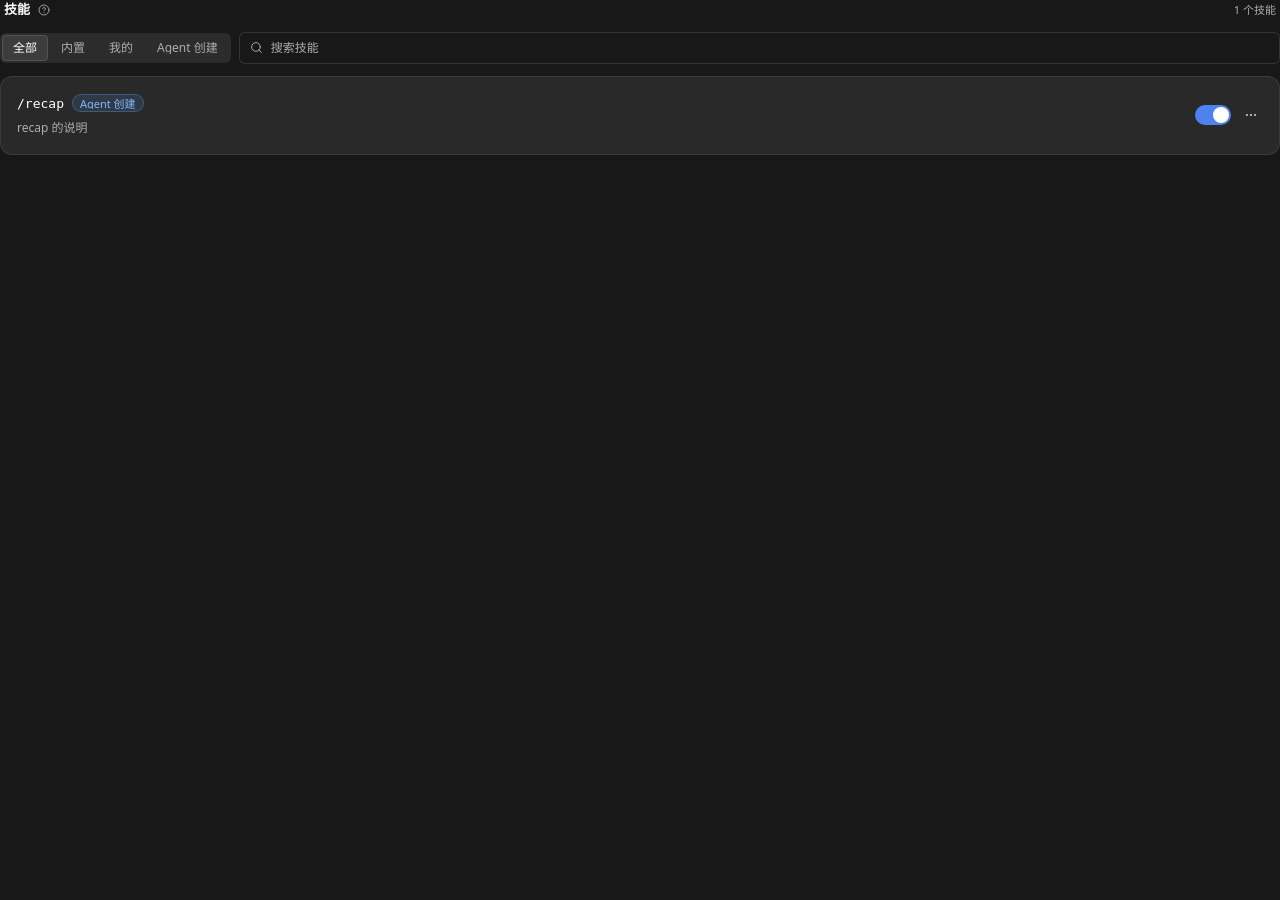
Scenario: SkillsPage › views a skill, schedules it as a task, and deletes after confirmation
Right-click the text "/recap".
right_click(40, 103)  # box [17, 96, 64, 110]
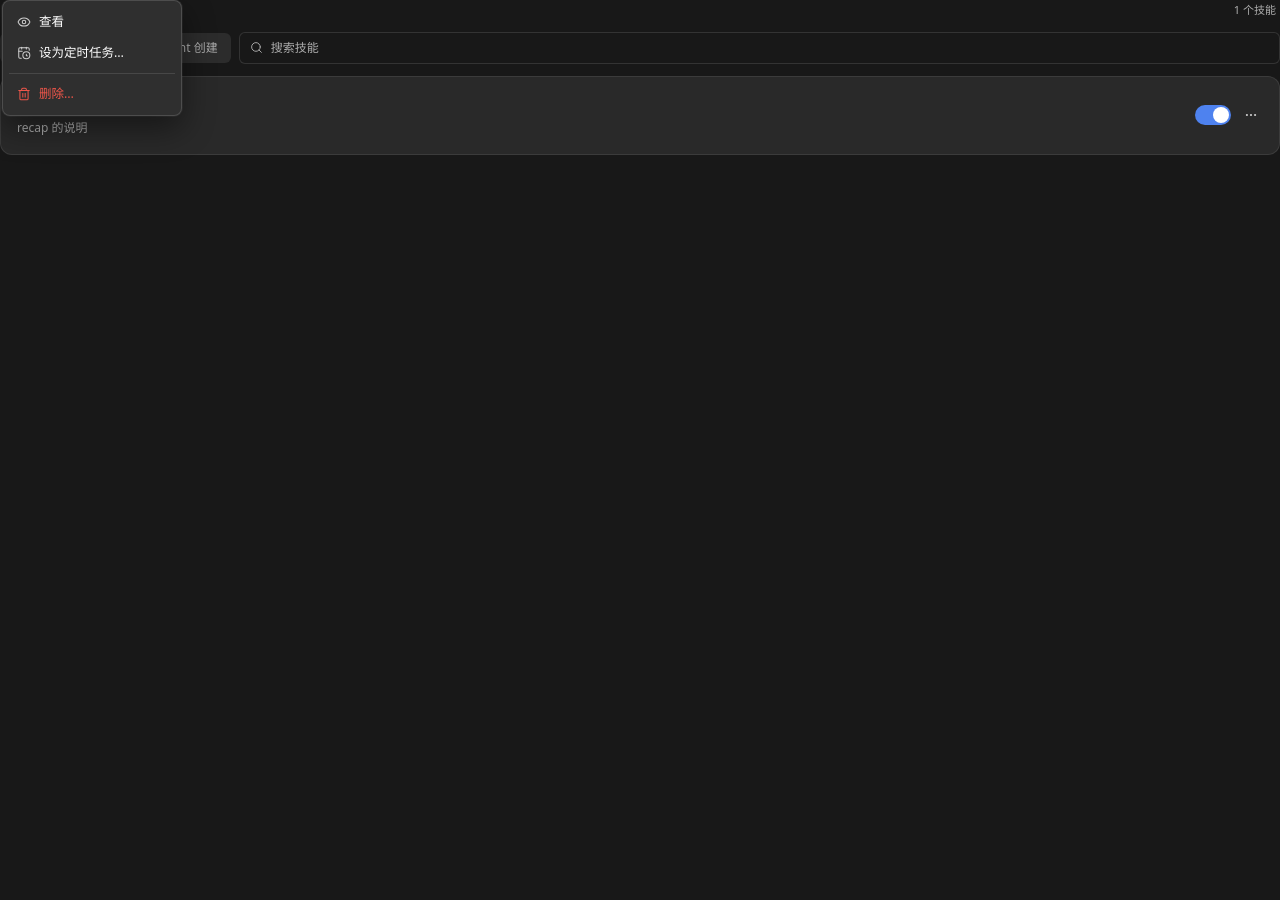
Click the menu item "查看".
click(40, 22)  # box [17, 13, 64, 30]
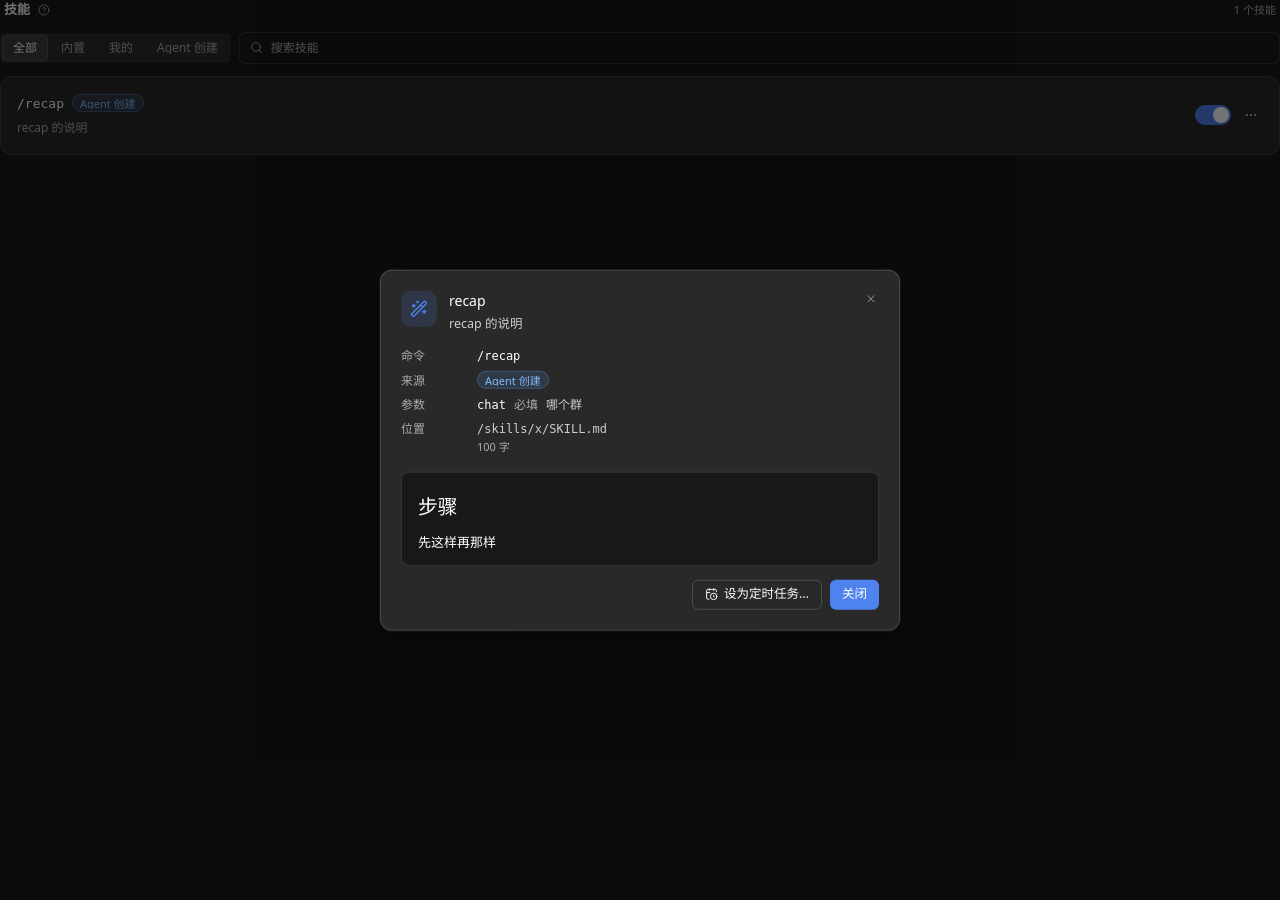
Expected: the text "先这样再那样" is shown, [418, 532, 496, 550]
Expected: the text "哪个群" is shown, [546, 395, 582, 413]
Click the button "设为定时任务…".
click(757, 594)  # box [692, 579, 822, 609]
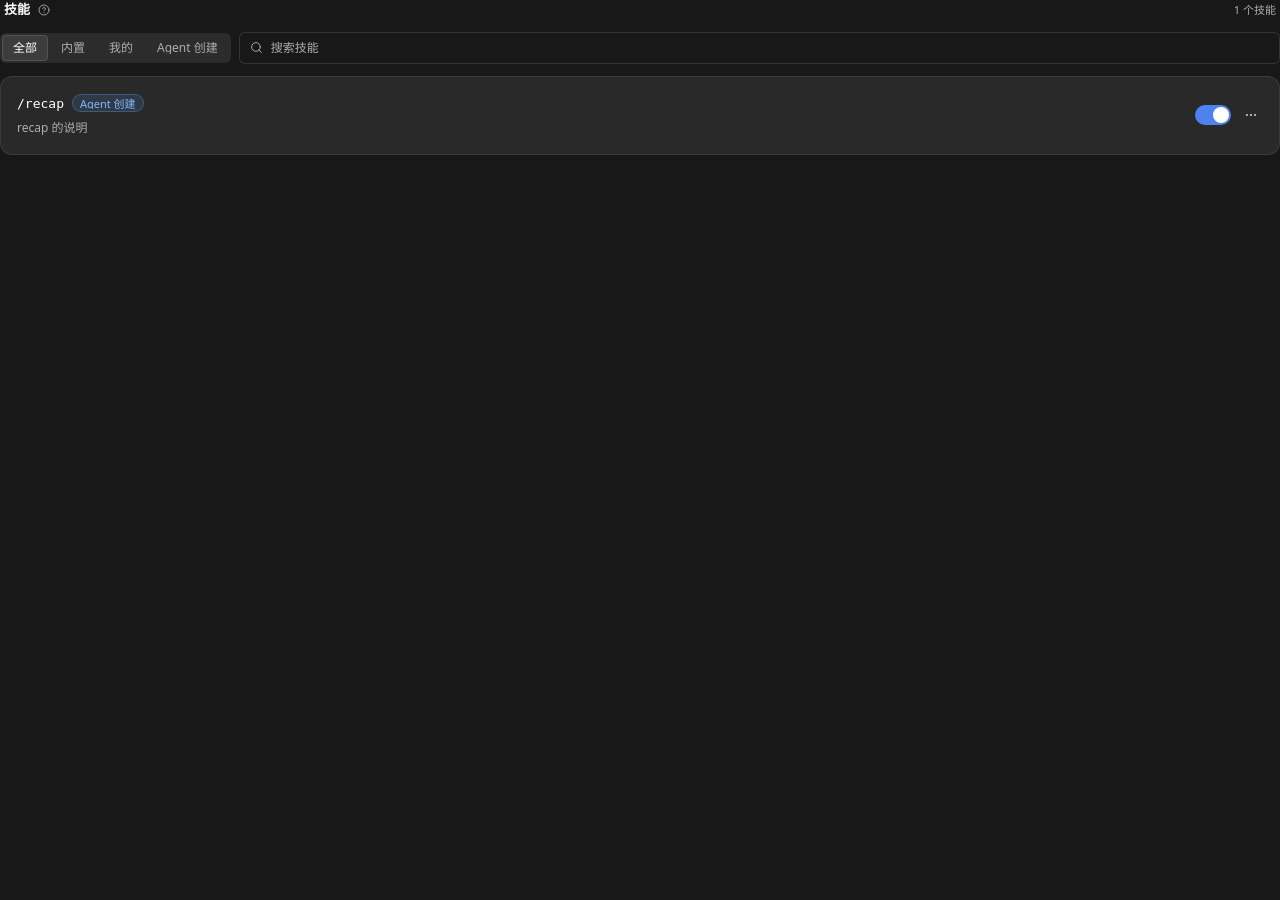
Right-click the text "/recap".
right_click(40, 103)  # box [17, 96, 64, 110]
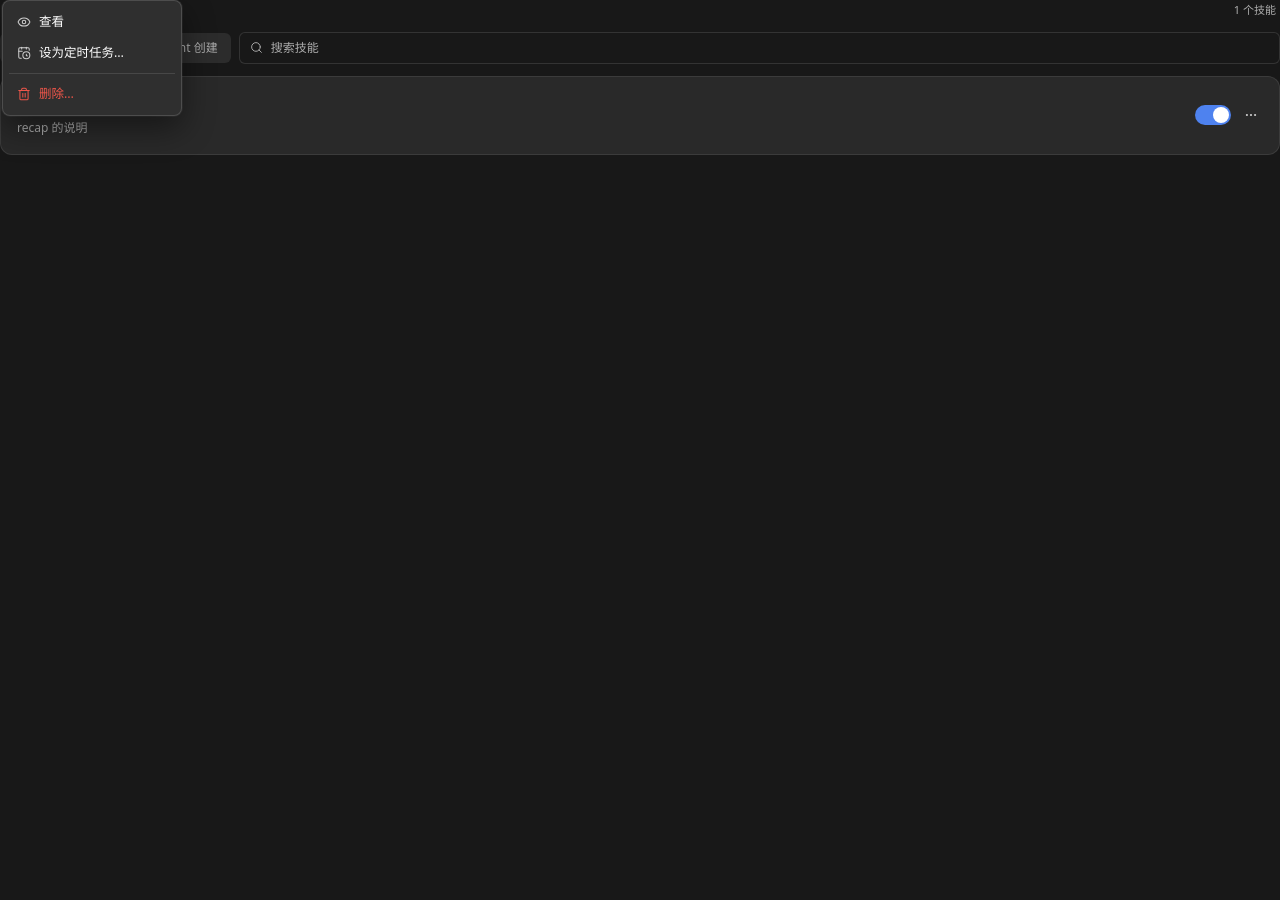
Click the menu item "删除…".
click(45, 94)  # box [17, 85, 74, 102]
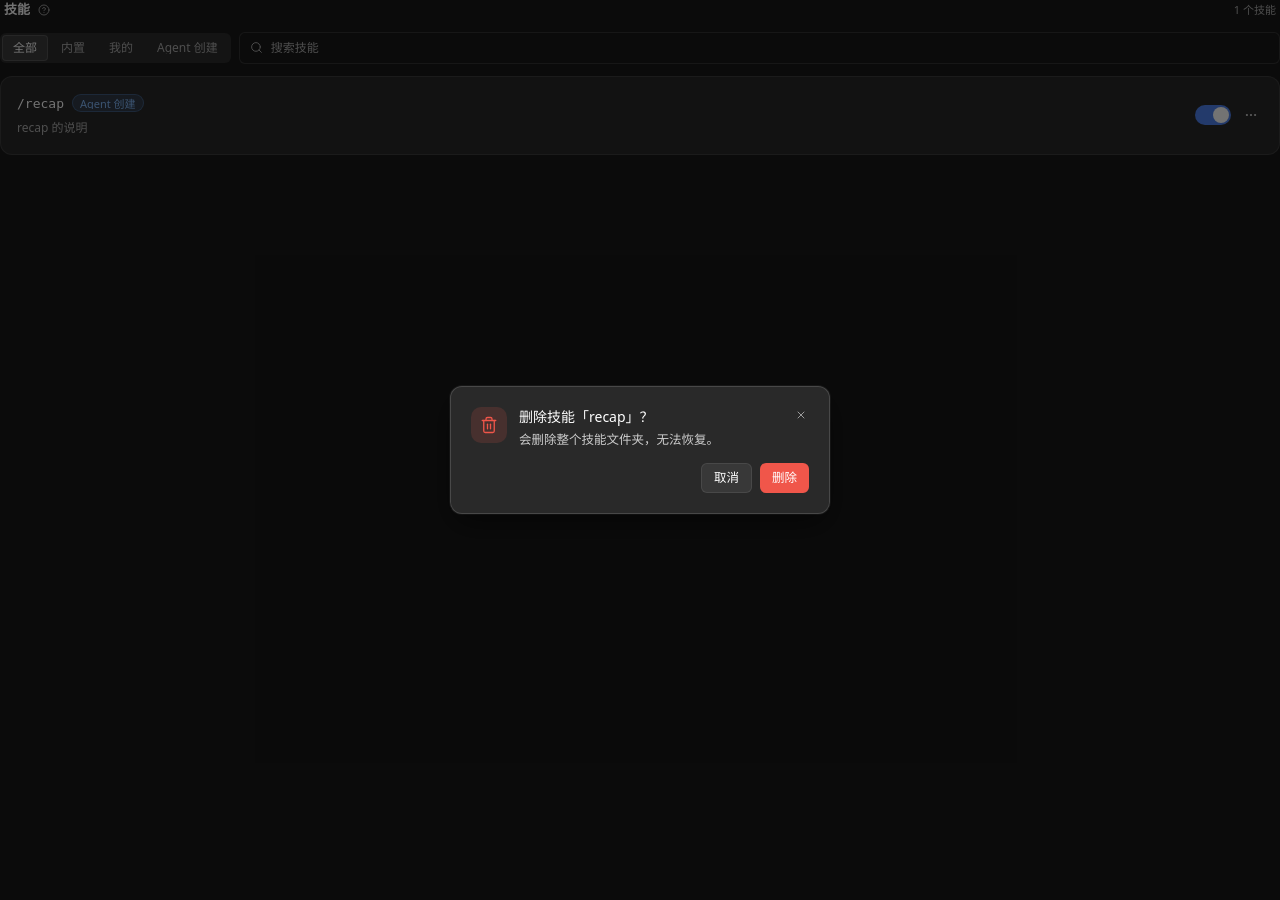
Click the button "删除".
click(784, 478)  # box [760, 463, 809, 493]
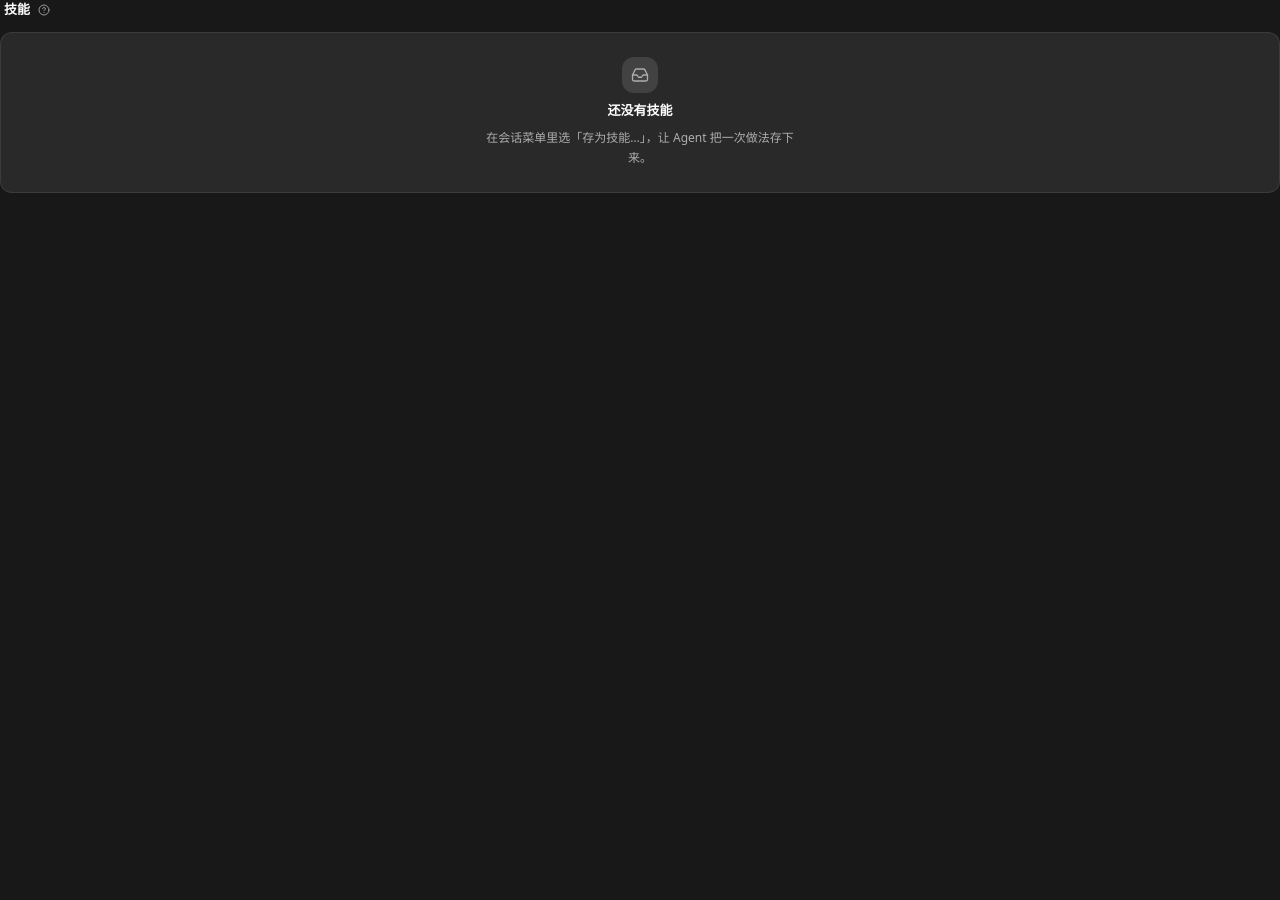
Expected: the text "还没有技能" is shown, [608, 100, 672, 120]
